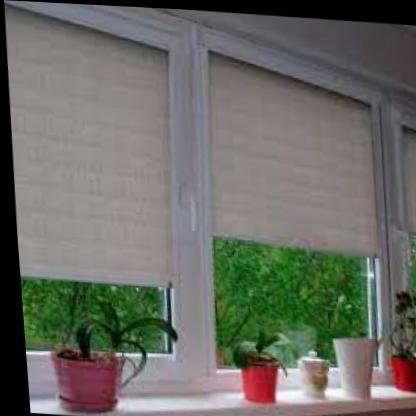Window: (4, 0, 197, 389), (195, 21, 387, 370), (391, 90, 416, 362)
